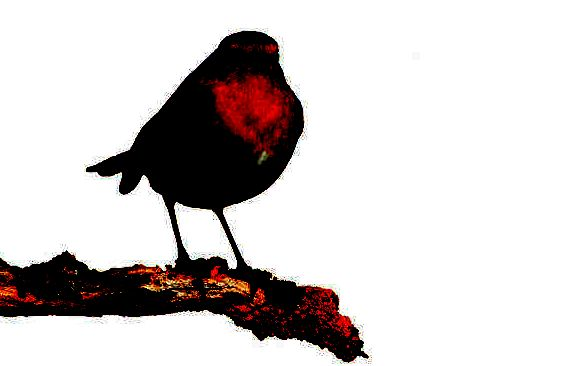Bird: (81, 26, 305, 284)
